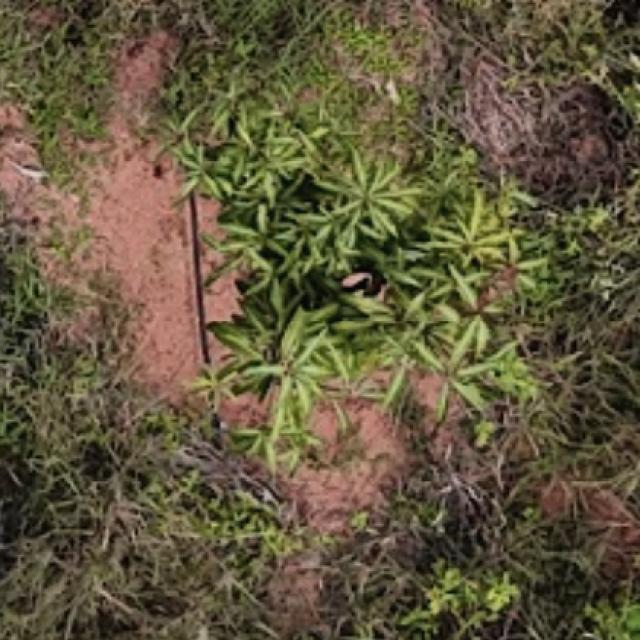mangoTree: (149, 95, 553, 478)
